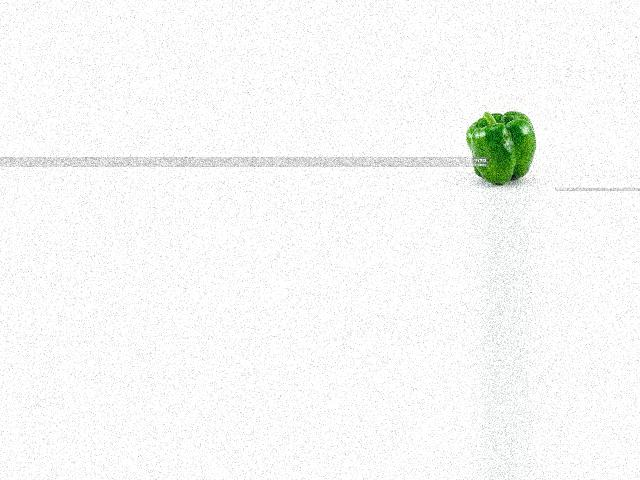bell_pepper: (467, 107, 538, 187)
